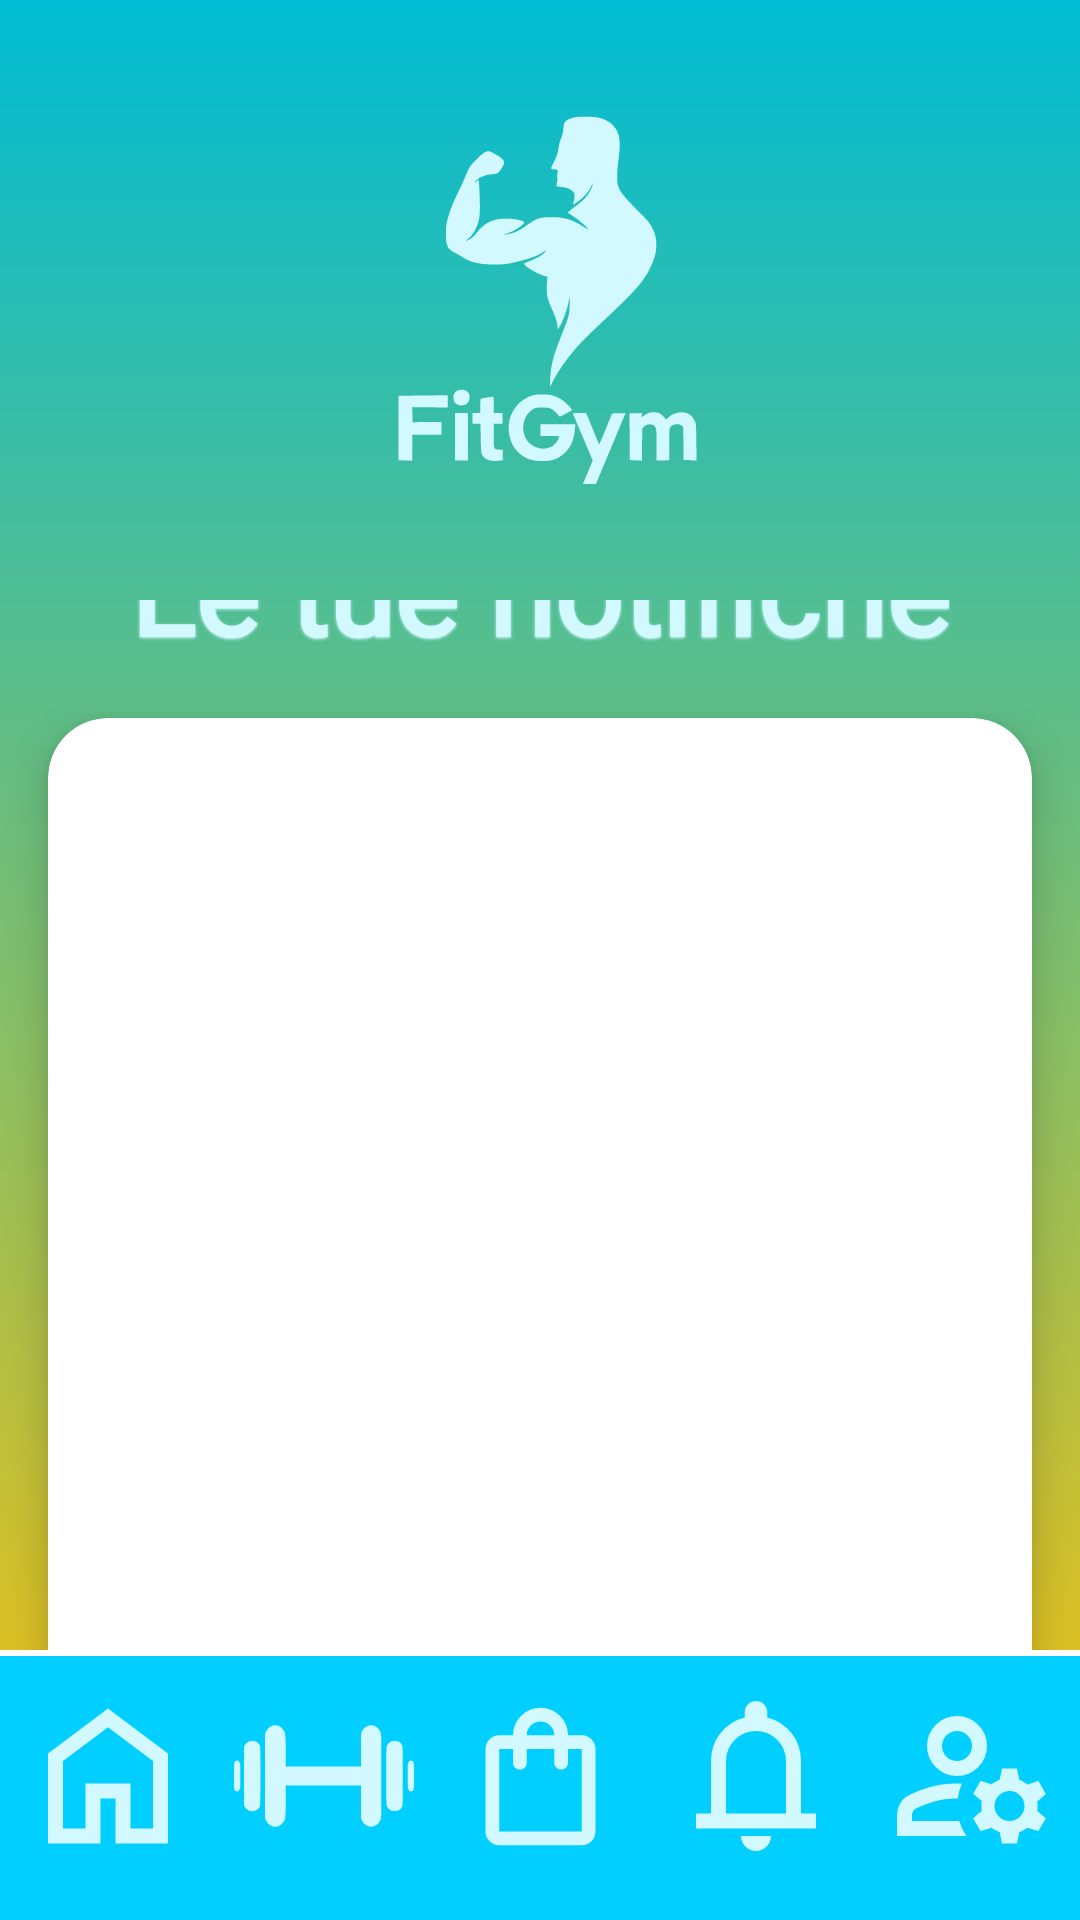

Icon bounding boxes for this 1080*1920 phone screenshot, format [x1, y1, x2, y2]:
Home: [48, 1708, 168, 1844]
icona corsi: [234, 1725, 414, 1827]
icona negozio: [485, 1707, 596, 1846]
Notifiche: [696, 1701, 816, 1851]
Profilo: [897, 1716, 1046, 1844]
